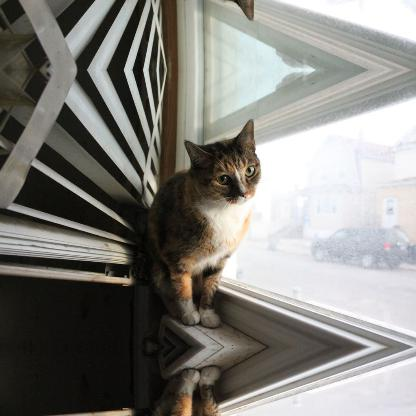Cat: (144, 117, 262, 327), (144, 365, 263, 415)
